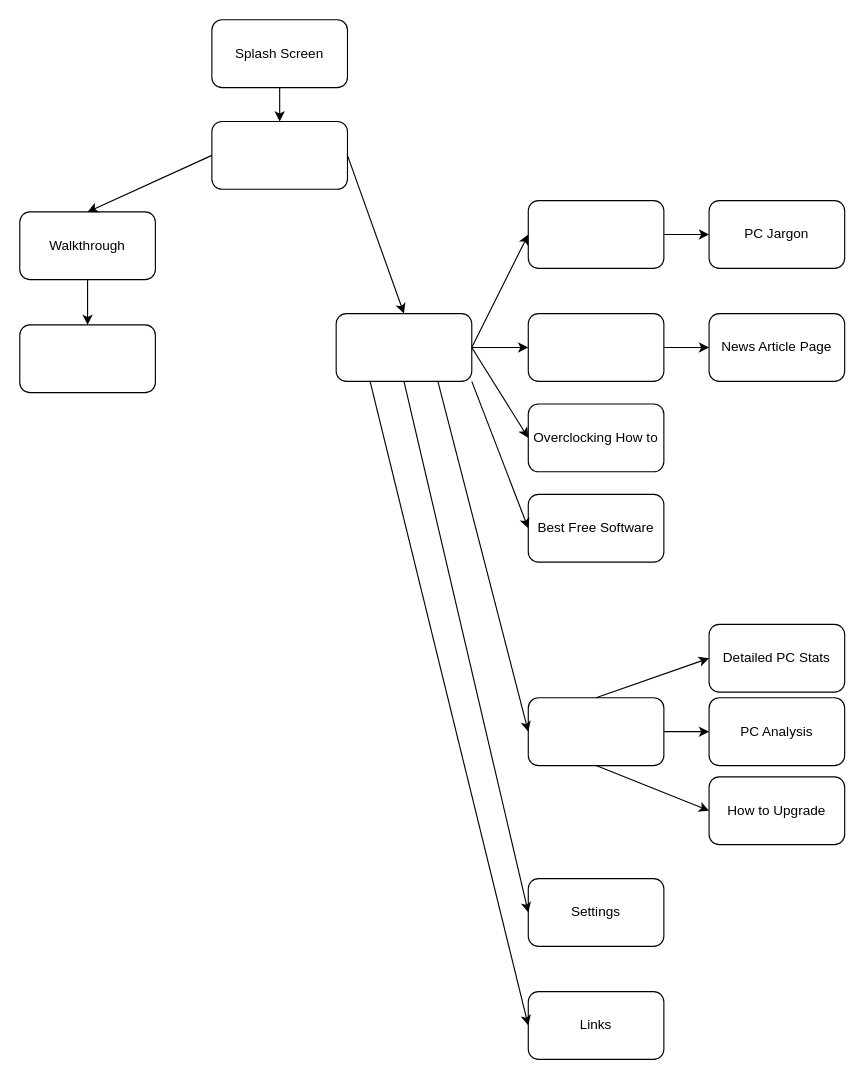
The diagram is 864 pixels wide and 1079 high, and some of its shapes have lost their labels. Each missing label, with the centre of its shape:
"Dashboard/Main Page" goes at [403,346].
"How to Build a PC" goes at [595,233].
"PC News/RSS" goes at [595,346].
"Setup Complete" goes at [87,358].
"Setup Screen" goes at [279,154].
"Your PC" goes at [595,731].
